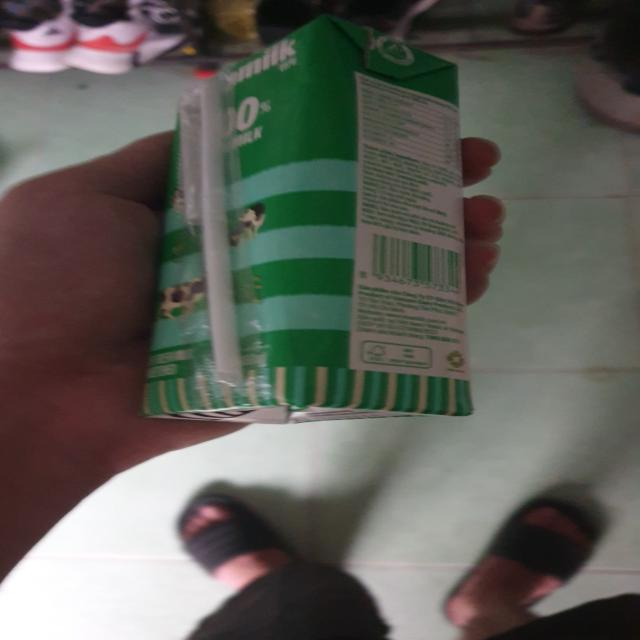Vina: (148, 18, 469, 425)
